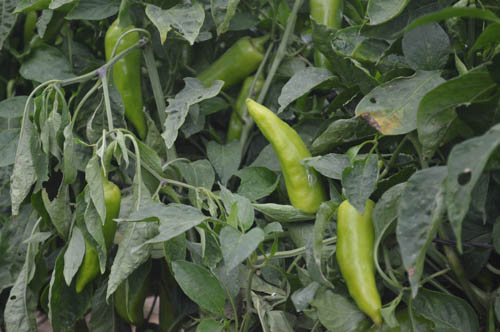ChiliPepper: (245, 95, 323, 211), (335, 195, 386, 324), (71, 183, 122, 289), (105, 26, 150, 137), (194, 40, 262, 86), (308, 3, 343, 76), (224, 78, 264, 139)
